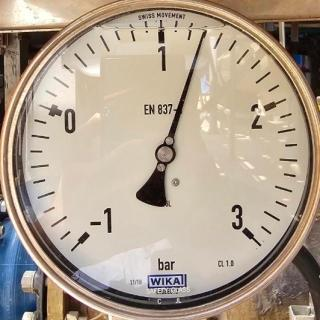gauge: (0, 0, 320, 320), (64, 206, 112, 258), (228, 214, 260, 246), (154, 143, 176, 165), (199, 27, 209, 41)
